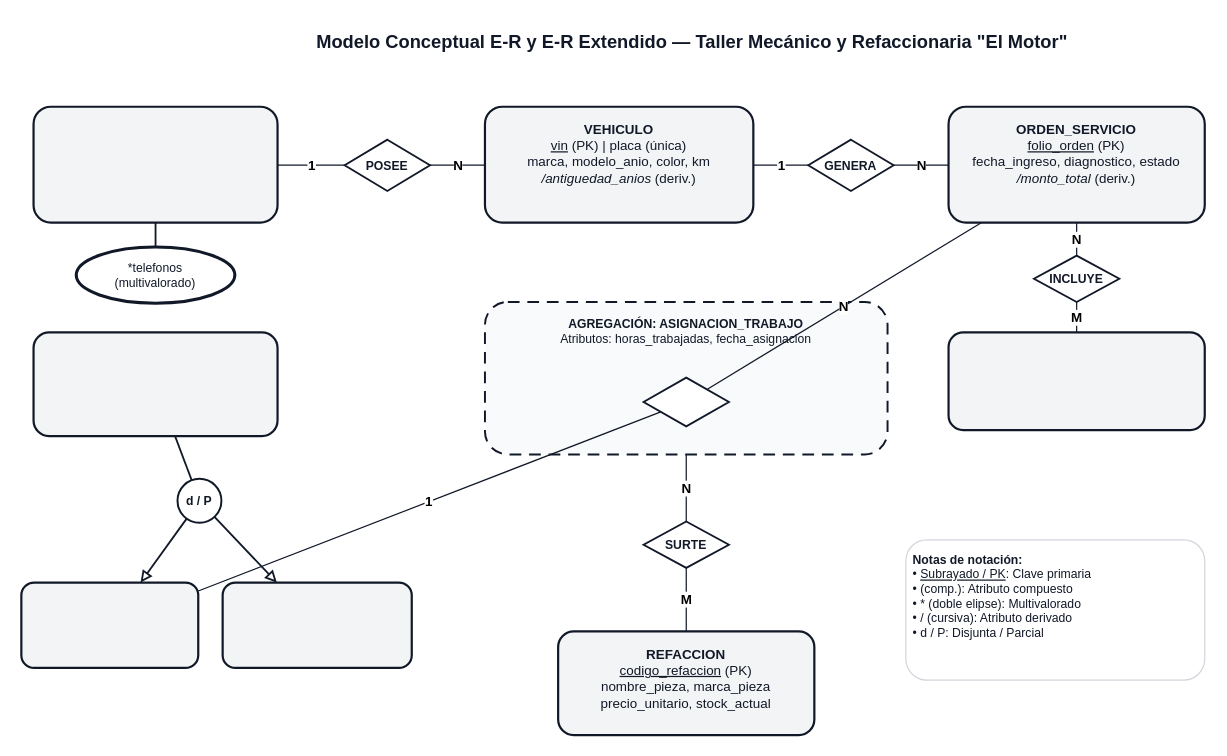
This 1227x756 diagram has some shape labels left out. Each missing label, with the centre of its shape:
"ASIGNA" belongs at [685,401].
"CLIENTE id_cliente (PK) nombre_completo (comp.) direccion (comp.) correo" belongs at [155,164].
"EMPLEADO id_empleado (PK) | curp nombre_completo (comp.) fecha_ingreso" belongs at [155,384].
"MECANICO especialidad tarifa_hora" belongs at [109,624].
"RECEPCIONISTA turno modulo_atencion" belongs at [316,624].
"SERVICIO id_servicio (PK) nombre_servicio precio_base" belongs at [1076,381].
